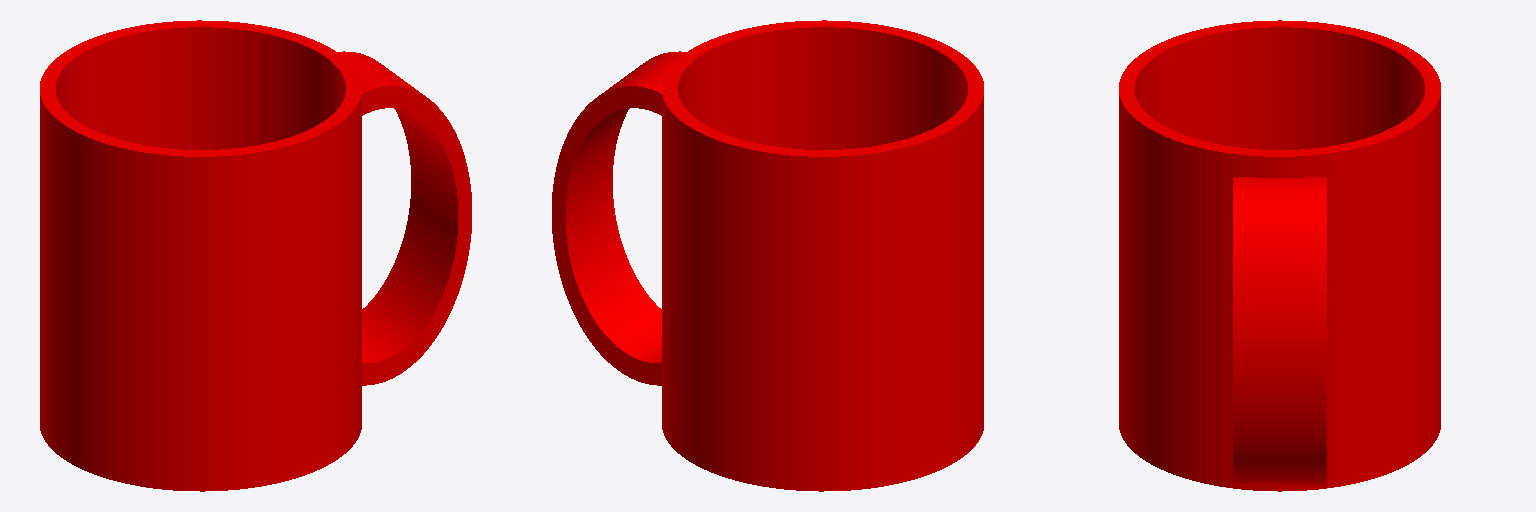
robot.urdf — mug.urdf:
<?xml version="1.0" ?>
<robot name="mug.urdf">
  <link name="baseLink">
    <inertial>
      <origin rpy="0 0 0" xyz="0 0 0"/>
       <mass value=".1"/>
       <inertia ixx="1" ixy="0" ixz="0" iyy="1" iyz="0" izz="1"/>
    </inertial>
    <visual>
      <origin rpy="0 0 0" xyz="0 0 0"/>
      <geometry>
        <mesh filename="13.stl" scale="1 1 1" />
      </geometry>
      <material name="red">
        <color rgba="1 0 0 1"/>
      </material>
    </visual>
    <collision>
      <origin rpy="0 0 0" xyz="0 0 0"/>
      <geometry>
        <mesh filename="13_convex.obj" scale="1 1 1" />
      </geometry>
    </collision>
  </link>
</robot>

--- Render facts (derived) ---
Views: 3 orthographic renders of the robot side by side, from view 1: azimuth 30°, elevation 25°; view 2: azimuth 150°, elevation 25°; view 3: azimuth 270°, elevation 25°.
Model mug.urdf with 1 links and 0 joints (none), rooted at baseLink, posed every joint at zero.
Links seen in each view (by area): view 1: baseLink; view 2: baseLink; view 3: baseLink.
Link boxes in pixels (x1,y1,x2,y2): baseLink: (40, 20, 471, 491); baseLink: (552, 20, 983, 491); baseLink: (1119, 20, 1440, 491).
Bounding box of the posed robot: 0.1392 × 0.1003 × 0.1148 m (x, y, z).
1 mesh visuals loaded from 1 distinct referenced files (1 binary STL).